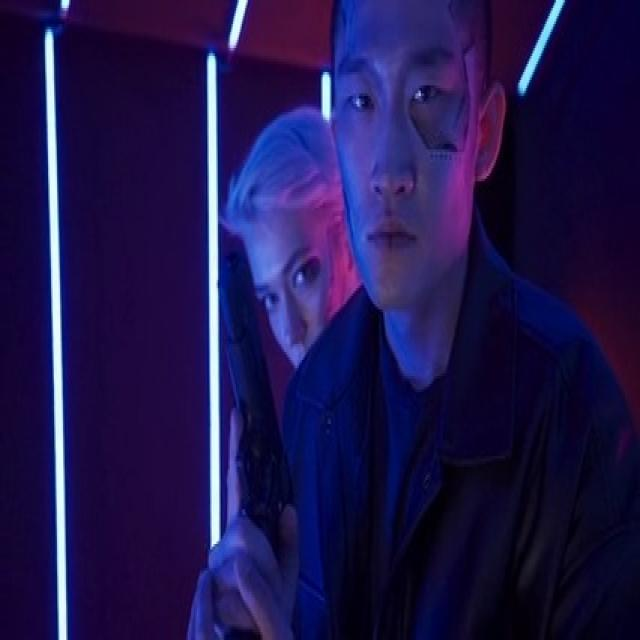Gun_Holder: (189, 259, 322, 640)
Jacket_Wearer: (266, 237, 634, 640)
Person: (267, 0, 635, 640), (213, 92, 367, 640)
